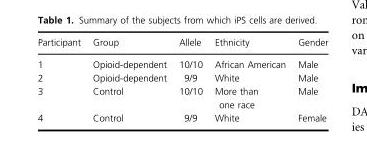table: (37, 37, 327, 122)
table column: (85, 37, 172, 122), (207, 37, 291, 122), (37, 37, 85, 122), (291, 37, 327, 122), (172, 37, 207, 122)
table column header: (37, 37, 327, 53)
table row: (37, 84, 327, 111), (37, 53, 327, 71), (37, 37, 327, 53), (37, 71, 327, 84), (37, 111, 327, 122)
